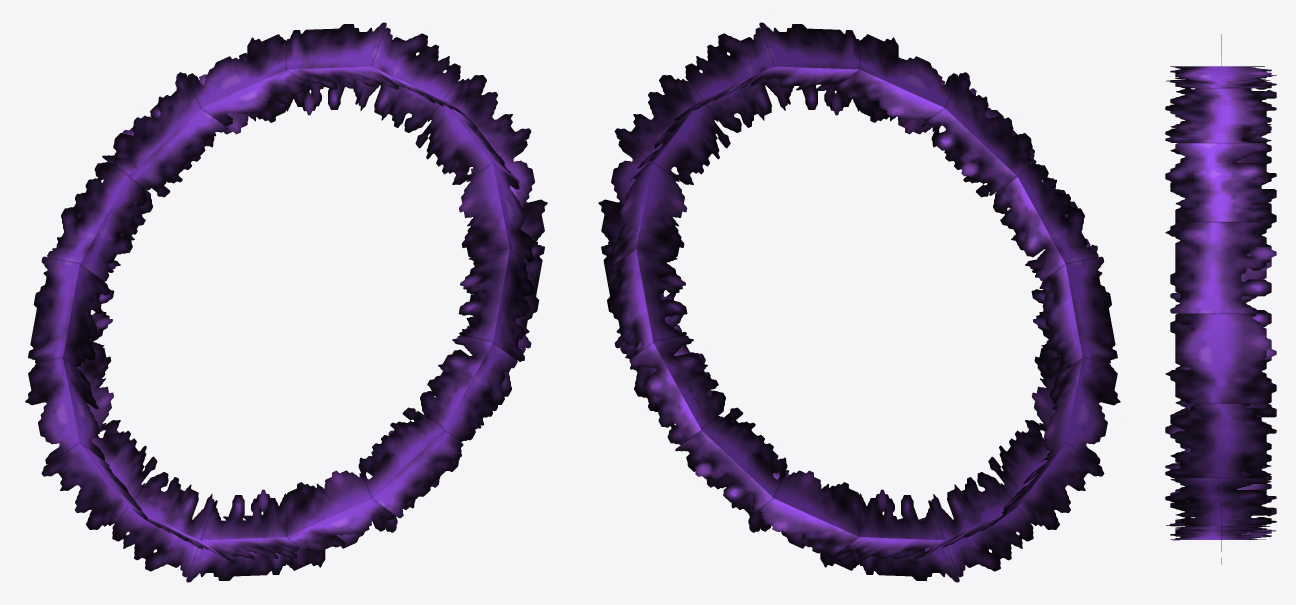
The picture shows the model from 3 angles, left to right: view 1: azimuth 30°, elevation 25°; view 2: azimuth 150°, elevation 25°; view 3: azimuth 270°, elevation 25°; orthographic projection. The views are drawn at different scales.
Parts seen in each view (by area): view 1: T1L3M009_25; view 2: T1L3M009_25; view 3: T1L3M009_25.
Boxes of the visible parts, x1,y1,x2,y2 form: T1L3M009_25: [25, 22, 547, 582]; T1L3M009_25: [598, 22, 1120, 582]; T1L3M009_25: [1165, 34, 1276, 564].
Bounding box in the file's own units: 2.83 × 2.83 × 0.5957.
1 material, 1 textured.
